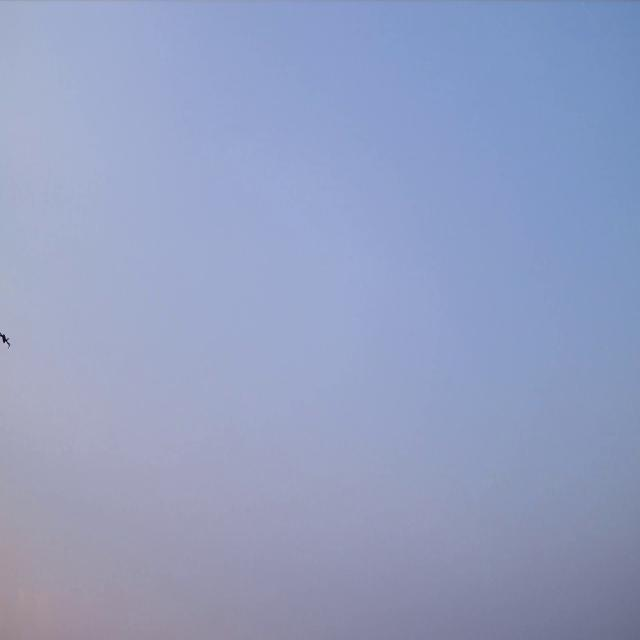UAV: (0, 330, 14, 349)
